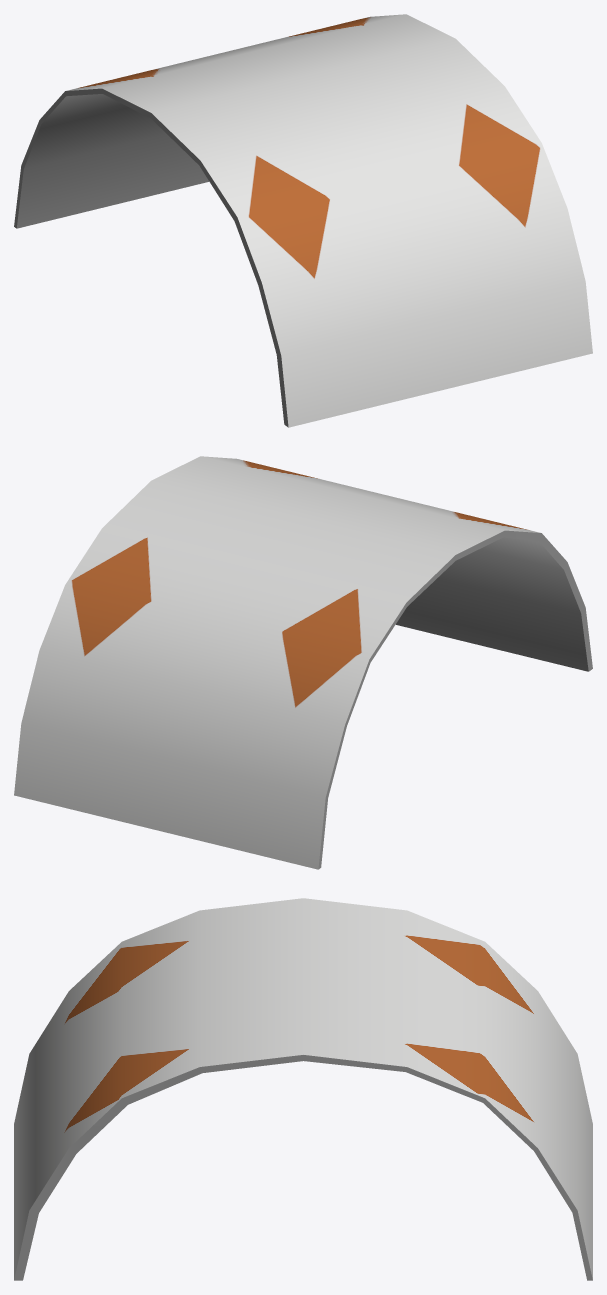
Rendered from Trump_d04.fbx.
The picture shows the model from 3 angles, top to bottom: view 1: azimuth 30°, elevation 25°; view 2: azimuth 150°, elevation 25°; view 3: azimuth 270°, elevation 25°; orthographic projection. The views are drawn at different scales.
Visible parts, largest first — view 1: pCube4; view 2: pCube4; view 3: pCube4.
Boxes of the visible parts, box(x1,y1,x2,y2) form: pCube4: box(14, 14, 592, 427); pCube4: box(14, 456, 592, 869); pCube4: box(14, 898, 592, 1280).
Size of the model in its own units: 915 by 613 by 1424.
